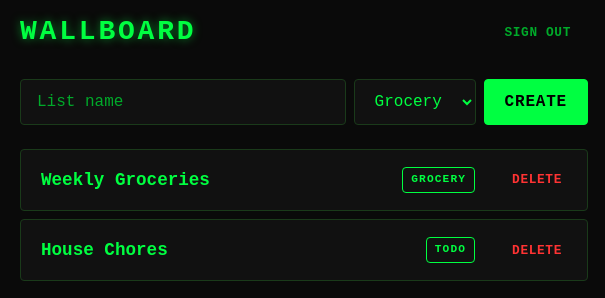
Test: ListsPage › can delete a list
This screenshot has width=605, height=298.
Expected: the text "Weekly Groceries" is shown, [41,166,210,194]
Click the button "Delete" in the row of "Weekly Groceries" at [537, 180], box [495,163,579,196]
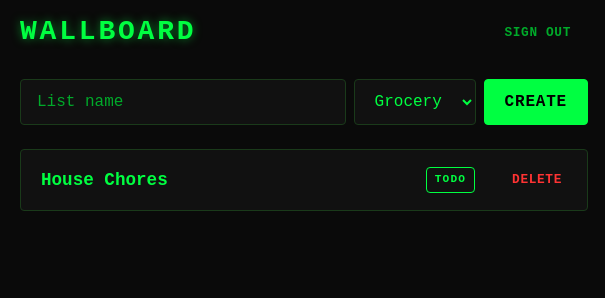
Now the link "Weekly Groceries" is gone
